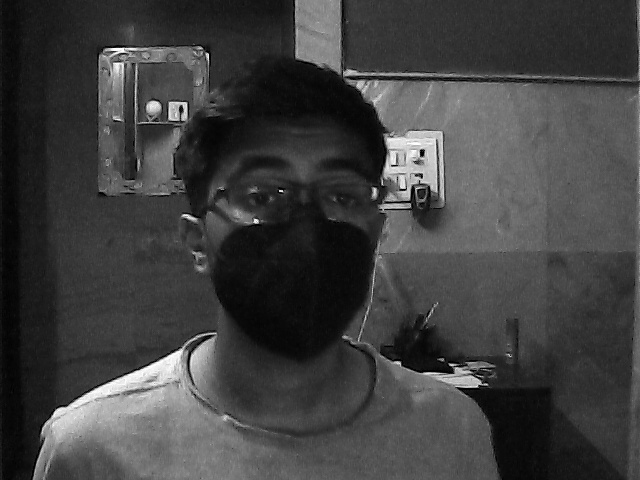mask: (198, 126, 383, 360)
